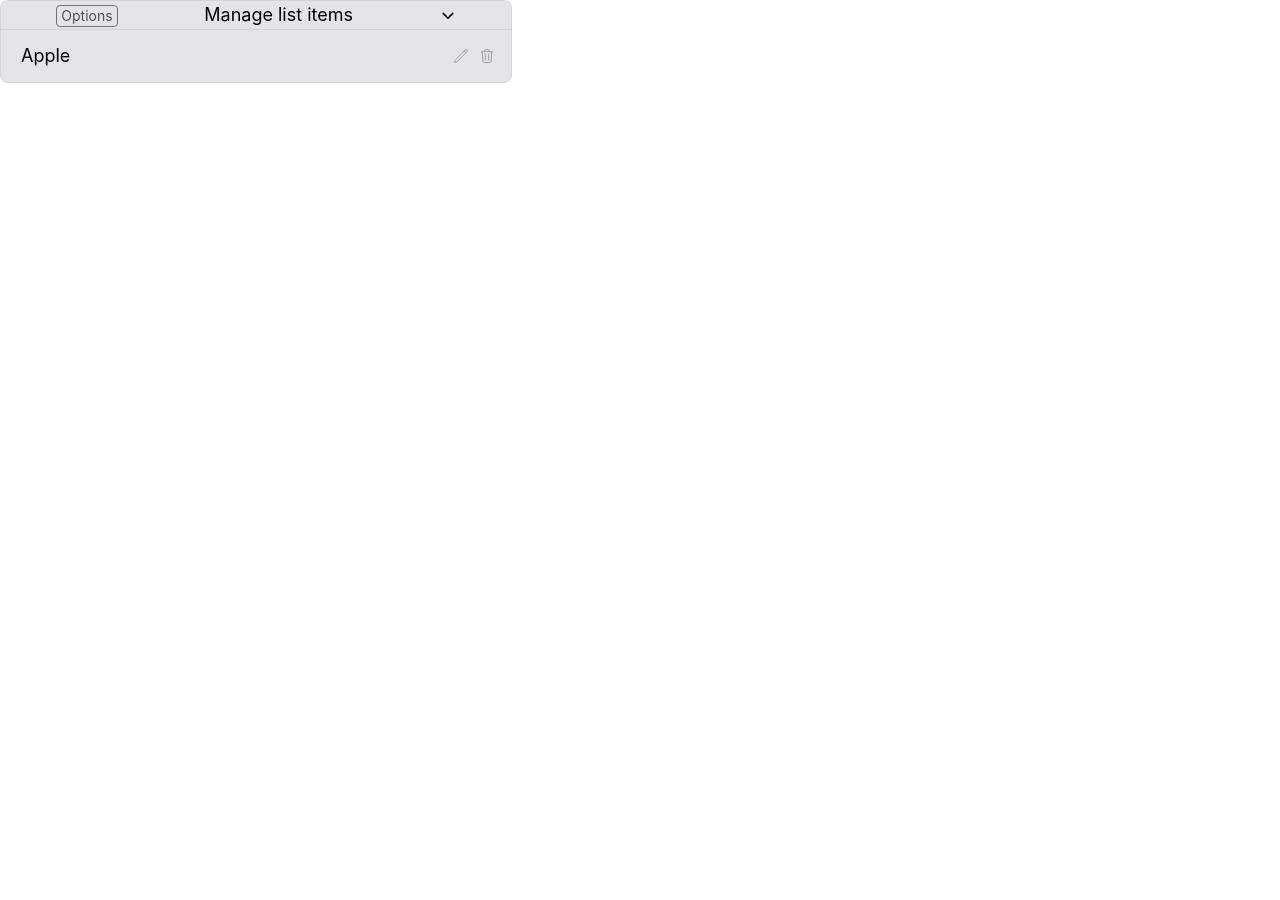
Test case: ListItems › delete button on a items deletes the item
The width and height of the screenshot is (1280, 900).
Check: the text "Apple" is shown, box top-left (21, 45), bottom-right (70, 66)
Step 1. Click the button named "delete apple" → (487, 56), box top-left (479, 48), bottom-right (495, 64)
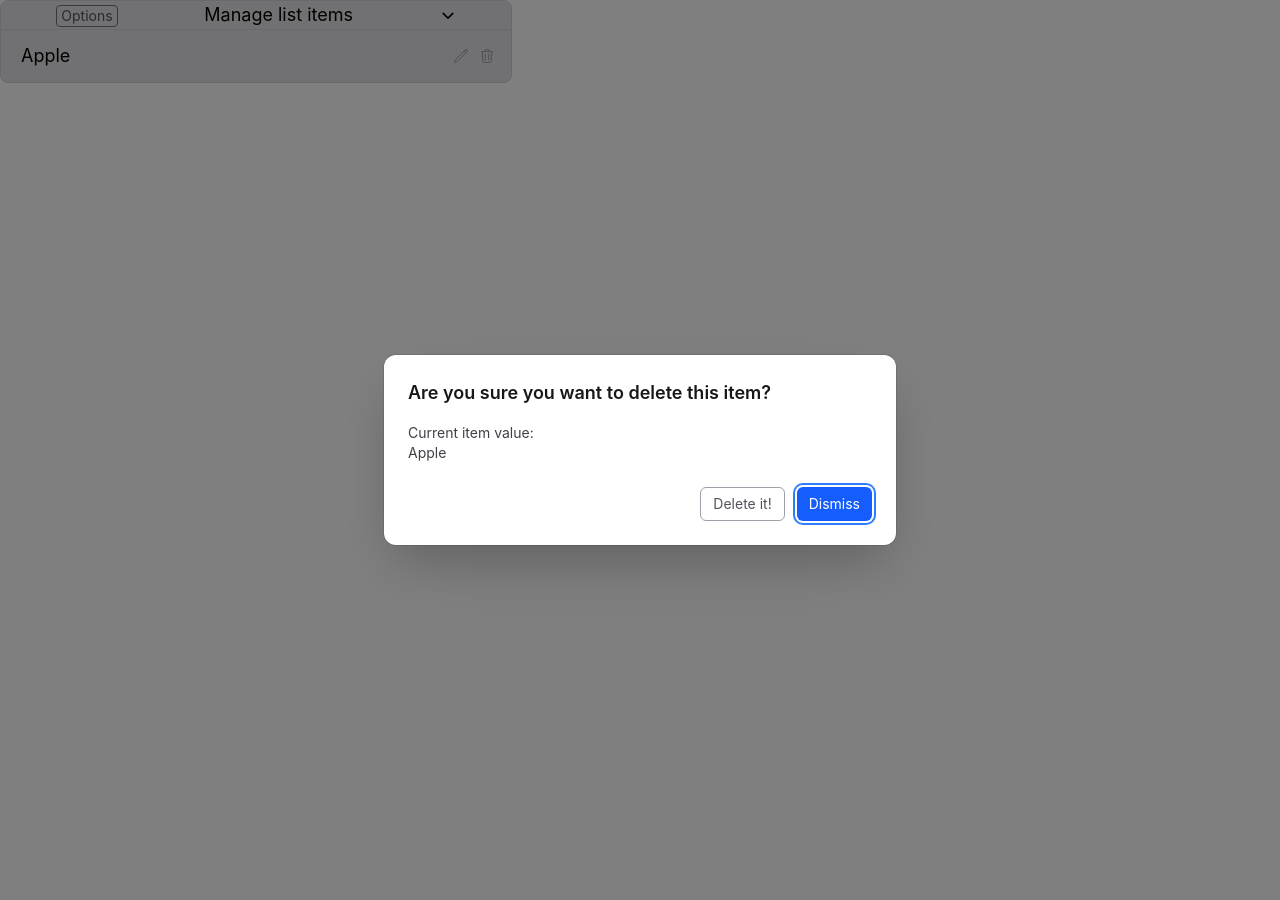
Step 2. Click the button "Delete it!" → (742, 504), box top-left (700, 487), bottom-right (785, 521)
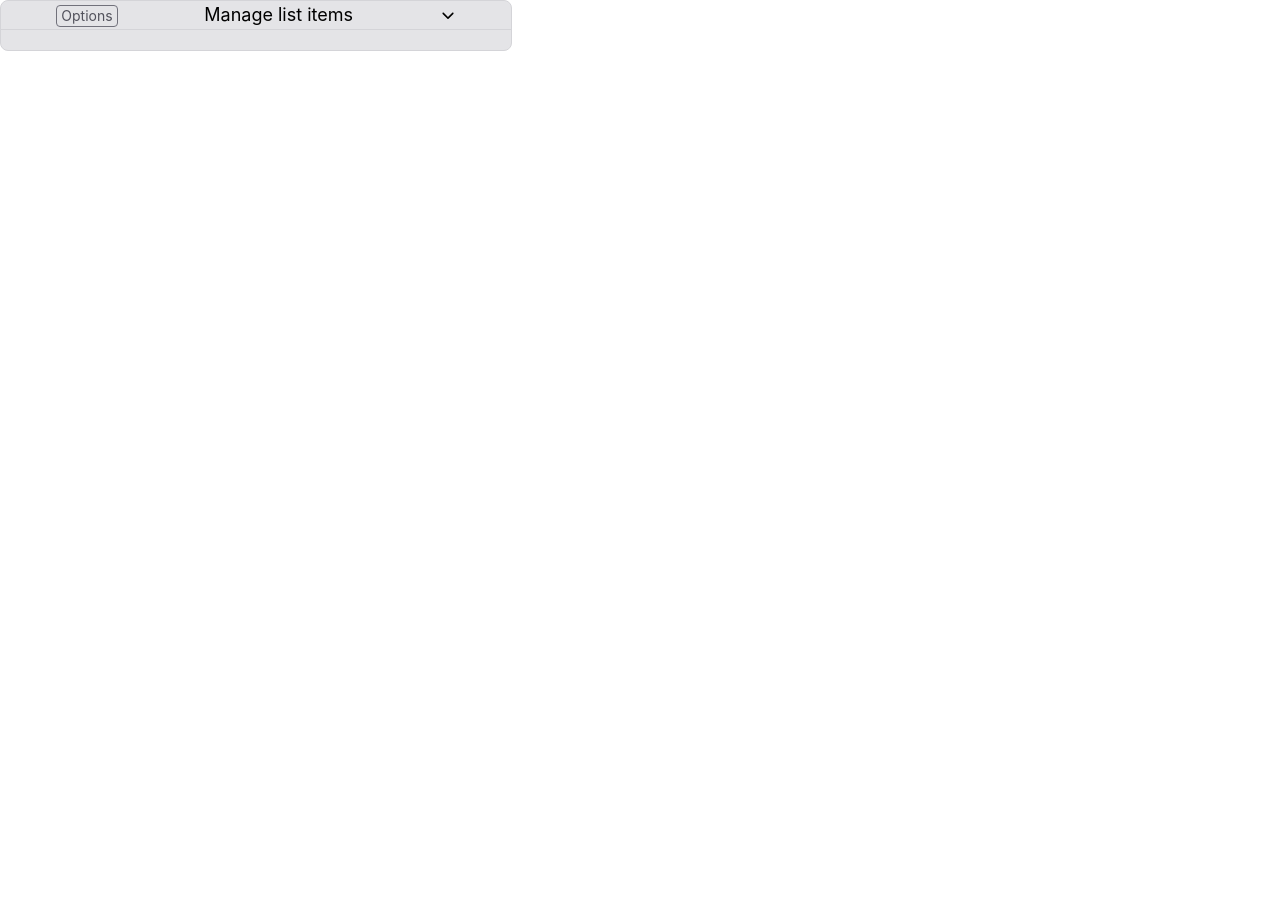
Check: the text "Apple" is gone
